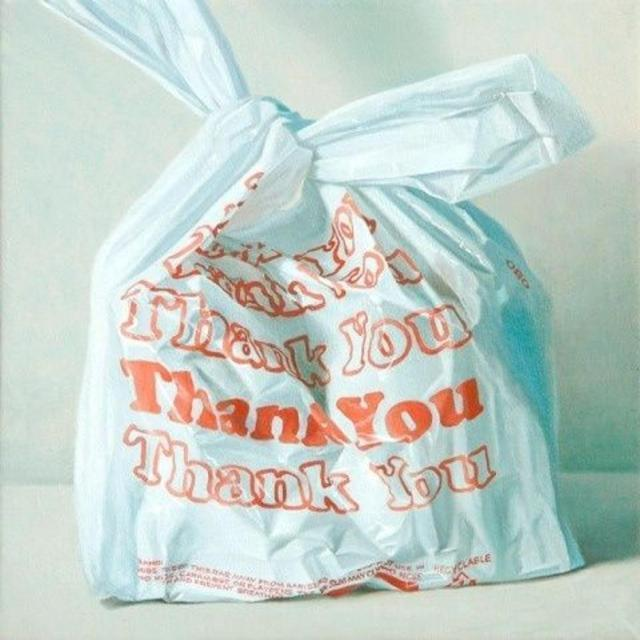Plastic_Bag: (72, 67, 591, 620)
